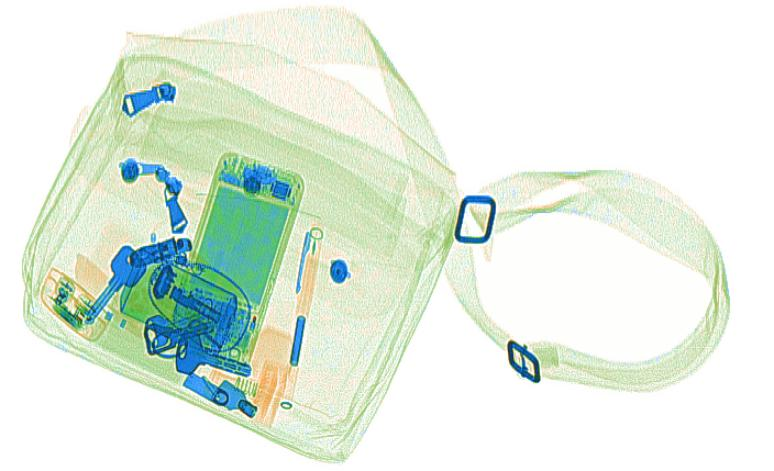seal: (201, 356, 290, 424)
